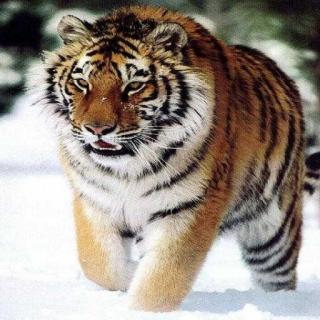Tiger: (16, 5, 320, 318)
